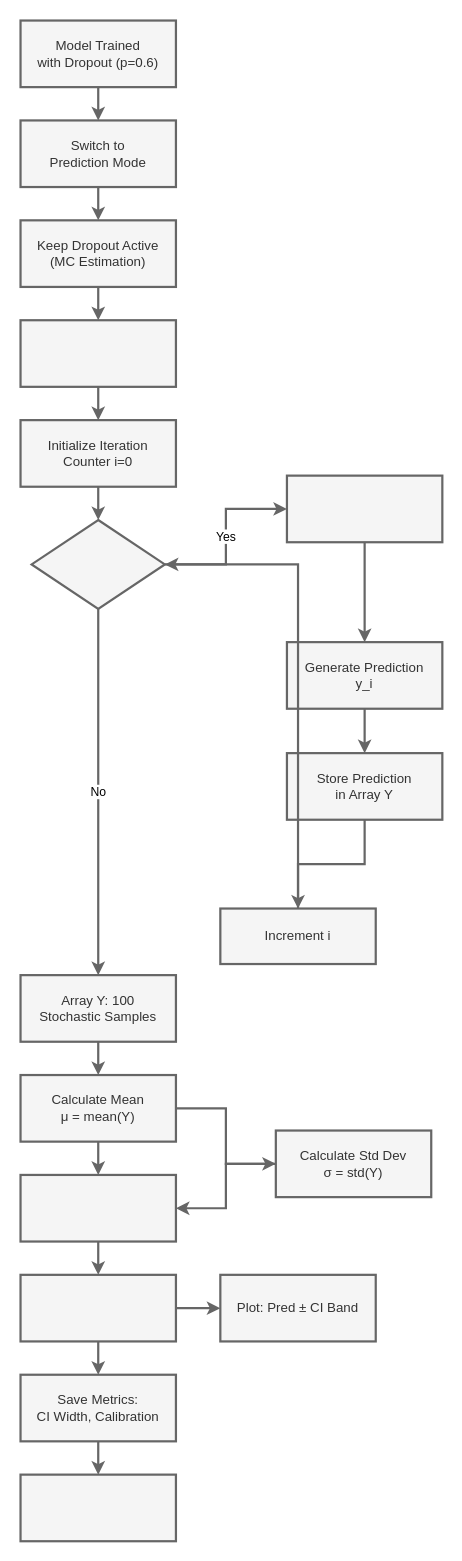
This 462x1561 diagram has some shape labels left out. Here are the shapes that lost their labels. From the top down, the centre of each, then its label:
point 97,353: Load Input Sequence (30-day window)
point 364,508: Forward Pass Through BiLSTM + Dropout
point 97,563: i < 100 MC Passes?
point 97,1207: Calculate 95% CI μ ± 1.96σ
point 97,1307: Generate Uncertainty Visualization
point 97,1507: Output Results: Forecast + Uncertainty
